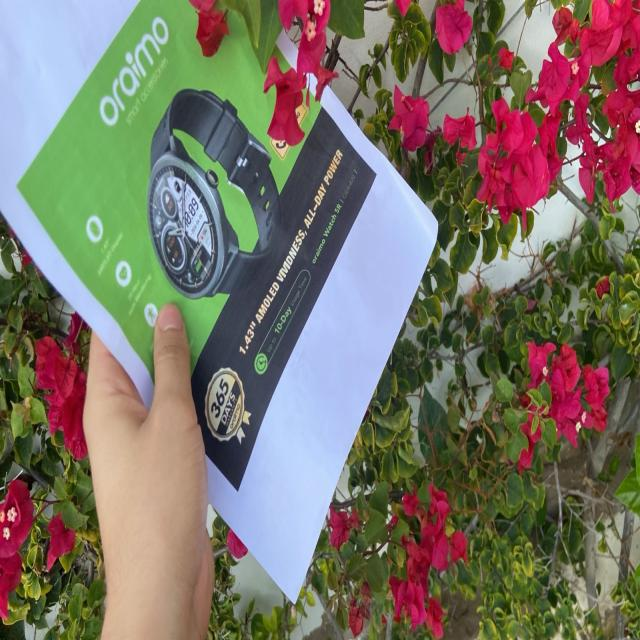Oraimo Watch 5R OSW-820: (312, 163, 364, 267)
